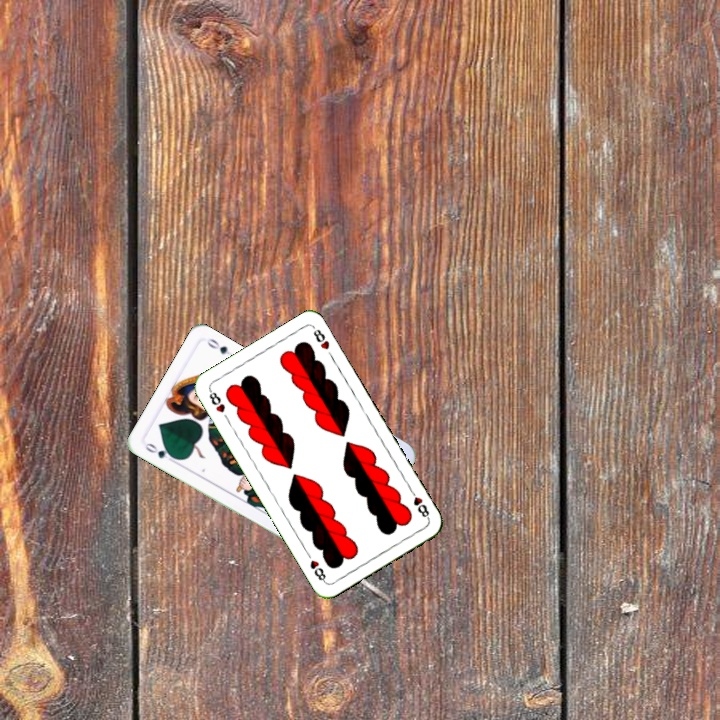GO: (141, 439, 179, 466)
H8: (406, 485, 432, 522), (205, 386, 228, 415)
